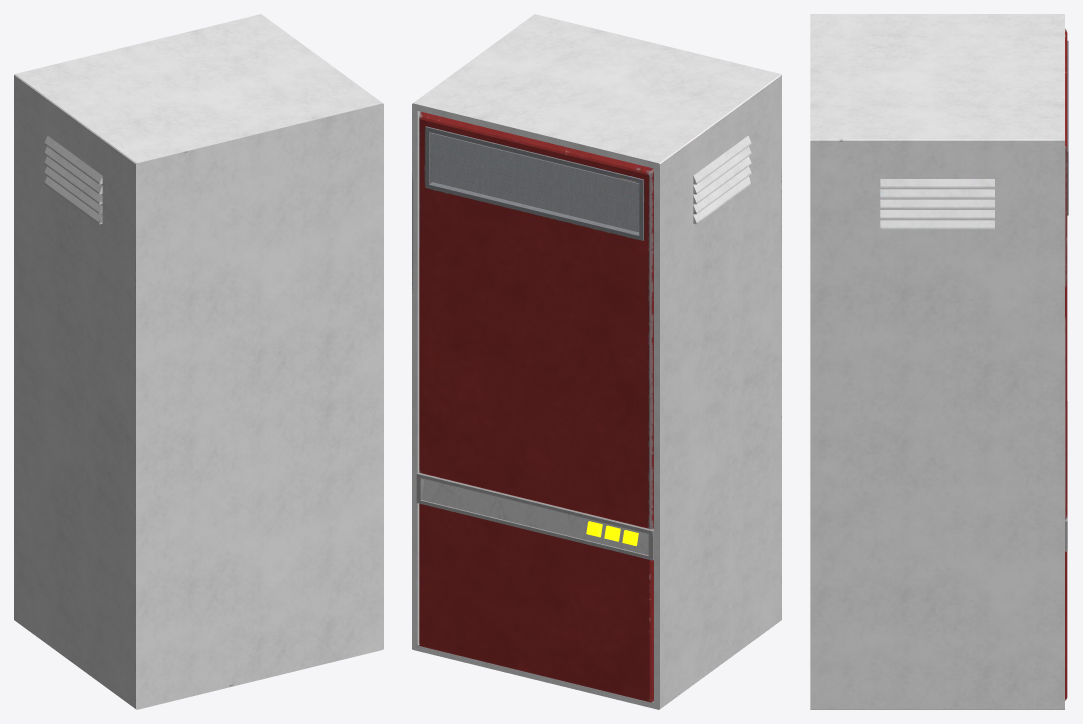
The model's file is Server2.fbx.
3 views of the same model, side by side, from view 1: azimuth 30°, elevation 25°; view 2: azimuth 150°, elevation 25°; view 3: azimuth 270°, elevation 25° (orthographic). The views are drawn at different scales.
Parts seen in each view (by area): view 1: defaultMaterial; view 2: defaultMaterial; view 3: defaultMaterial.
Part boxes in pixels (left/top/right/bottom): defaultMaterial: left=14, top=14, right=383, bottom=709; defaultMaterial: left=412, top=14, right=781, bottom=709; defaultMaterial: left=810, top=14, right=1068, bottom=709.
Size of the model in its own units: 428 by 881 by 362.
